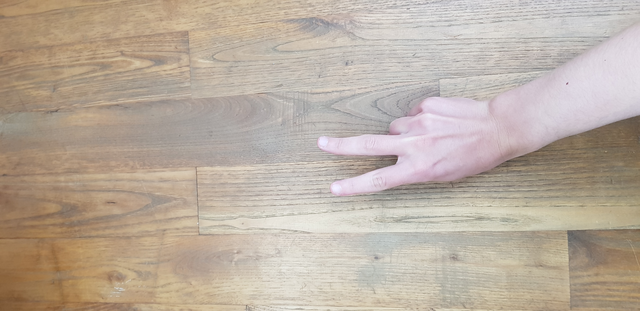Scissors: (296, 75, 547, 220)
